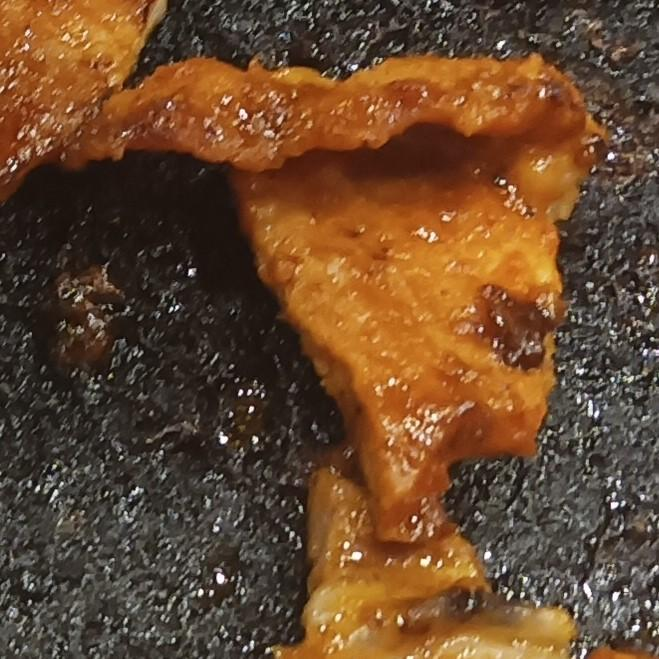Well-Cooked: (83, 55, 611, 530), (270, 471, 578, 658), (0, 0, 157, 208)
